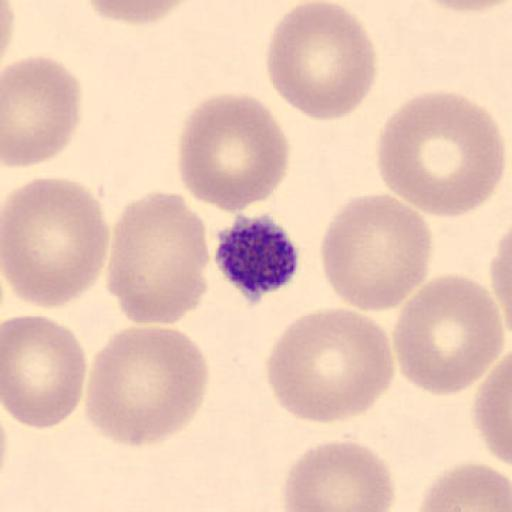Platelet: (213, 211, 302, 302)
RBC: (377, 88, 506, 218), (264, 306, 397, 425), (84, 324, 210, 449), (0, 176, 108, 311), (392, 272, 506, 397), (318, 191, 434, 313), (106, 190, 210, 326), (176, 91, 290, 215), (263, 0, 377, 121), (2, 313, 88, 430), (2, 53, 82, 168), (281, 438, 396, 512), (415, 461, 512, 512), (472, 352, 512, 466), (78, 0, 198, 25), (489, 225, 512, 352), (488, 234, 512, 317), (413, 0, 510, 14), (0, 0, 17, 66)
